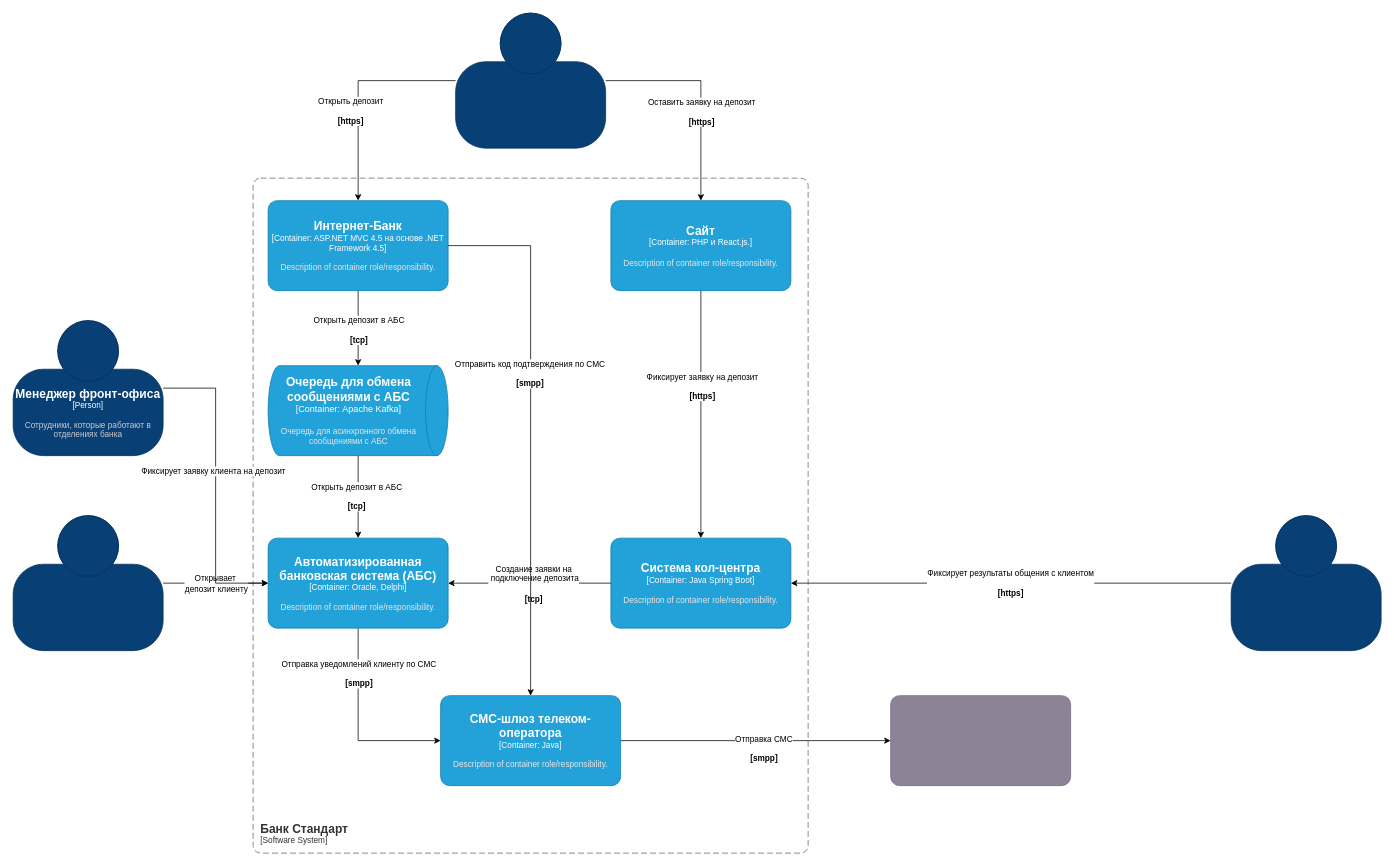
Some shapes in this 1394 by 866 pixel diagram are drawn without their labels. The centre of each missing label's shape, as x and y in pixels:
"Клиент Банка [Person] Физ лицо у которого открыт счет в банке" belongs at point (530, 80).
"Менеджеры бэк-офиса [Person] Специалисты по кредитам и депозитам" belongs at point (87, 583).
"Сотрудник кол-центра [Person] Сотрудник кол-центра банка" belongs at point (1305, 583).
"Телеком-оператор [Software System] Description of external software system." belongs at point (980, 740).
